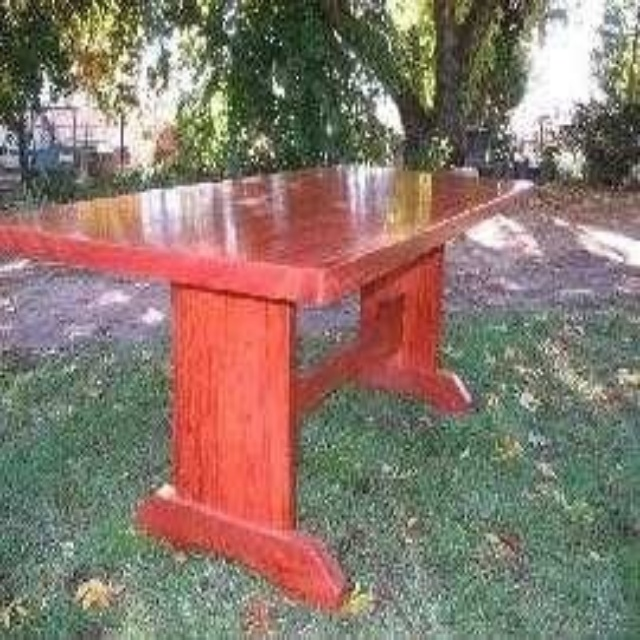obstacle: (0, 168, 526, 610)
